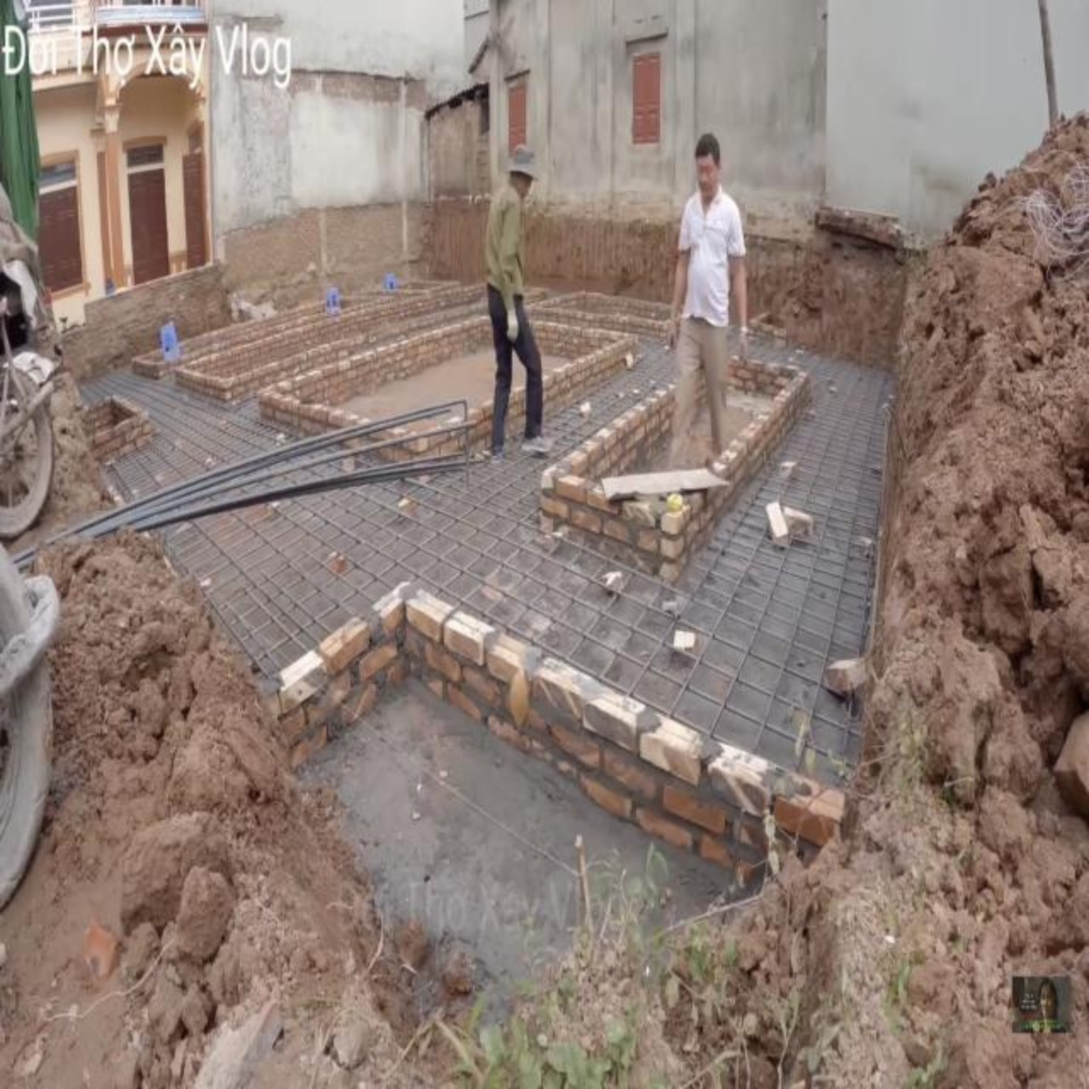no_helmet: (506, 142, 535, 202), (697, 133, 719, 201)
no_vest: (679, 193, 747, 331), (484, 186, 530, 304)
person: (669, 132, 754, 505), (479, 140, 552, 469)
